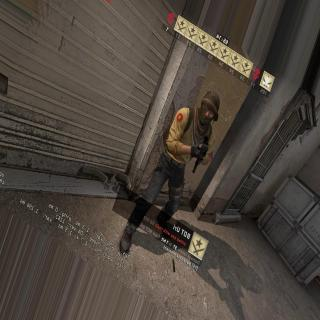T-Body: (119, 90, 225, 258)
T-Head: (198, 94, 218, 122)
